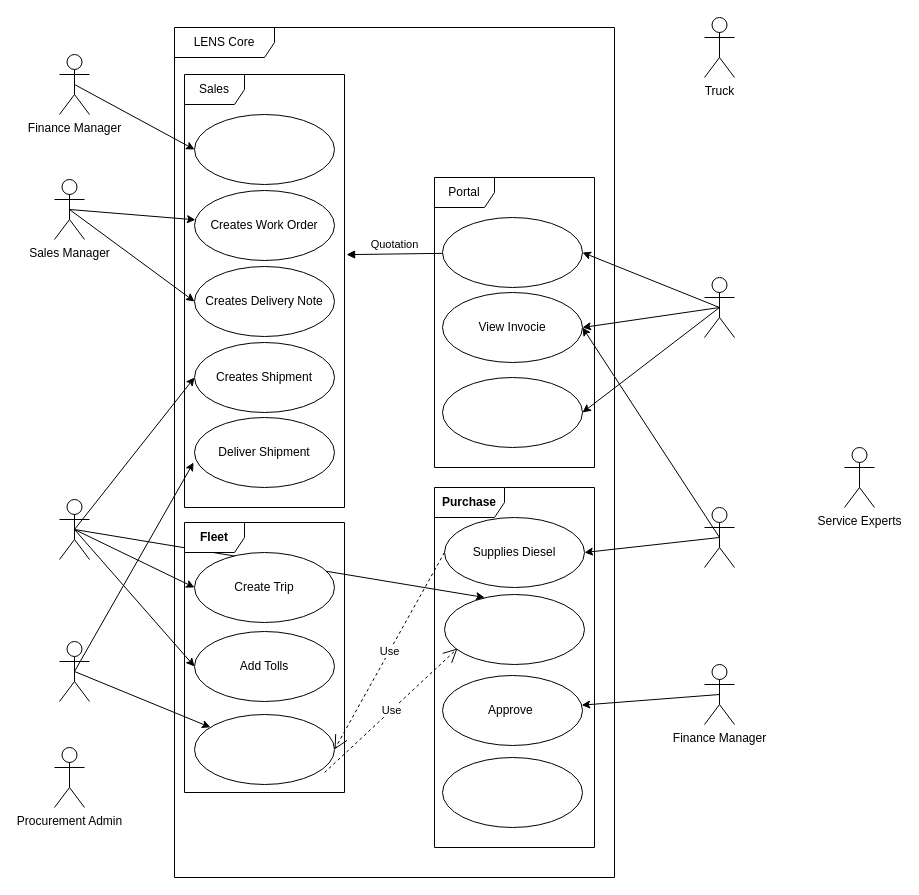
The diagram is 919 pixels wide and 895 high, and some of its shapes have lost their labels. Each missing label, with the box of its shape:
Add Expenses: (194, 714, 334, 784)
Approves Quote: (194, 114, 334, 184)
Check service status: (442, 376, 582, 448)
Create Invoice: (444, 594, 584, 664)
Fleet Admin: (58, 498, 90, 560)
Pay Invoice: (442, 756, 582, 828)
Petrol Bunks: (704, 506, 734, 568)
Pilots: (58, 640, 90, 702)
Request Service: (442, 216, 582, 288)
Suppliers: (704, 276, 734, 338)
